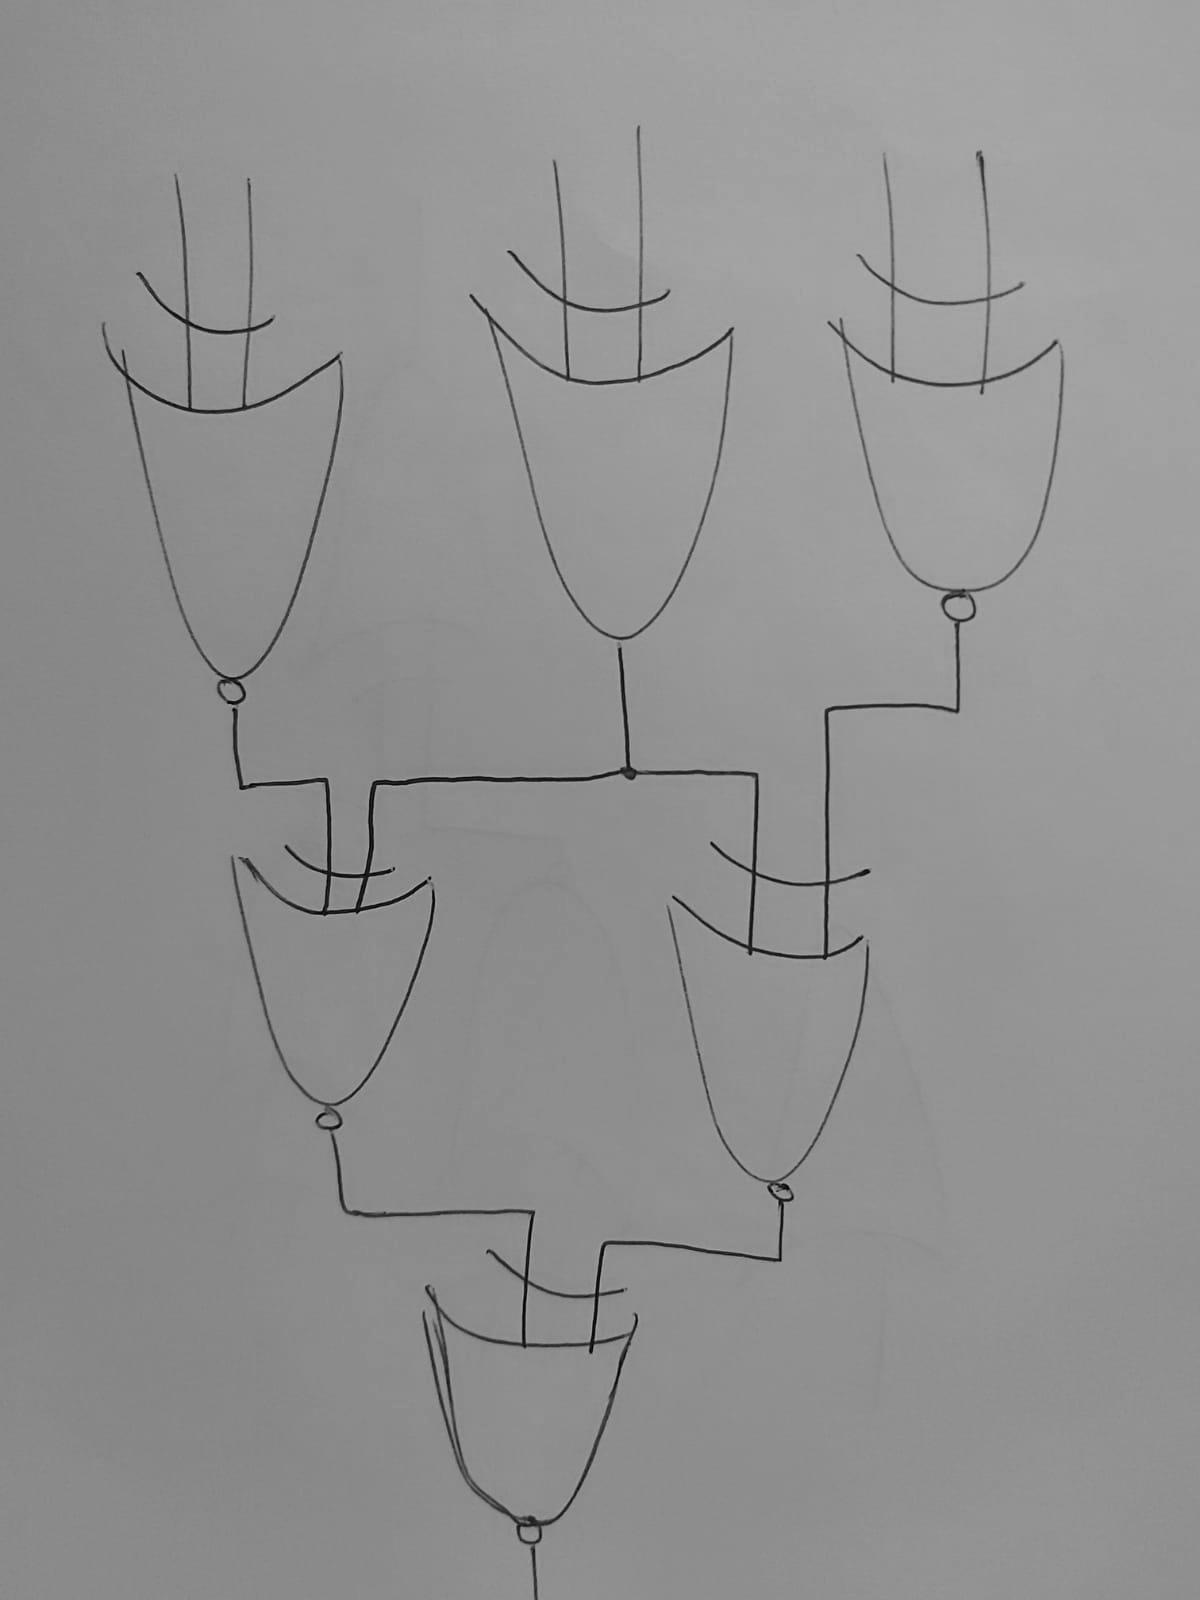XNOR: (79, 243, 410, 728), (813, 237, 1134, 655), (640, 824, 947, 1223), (379, 1243, 696, 1553), (213, 820, 497, 1163)
XOR: (446, 210, 787, 671)
